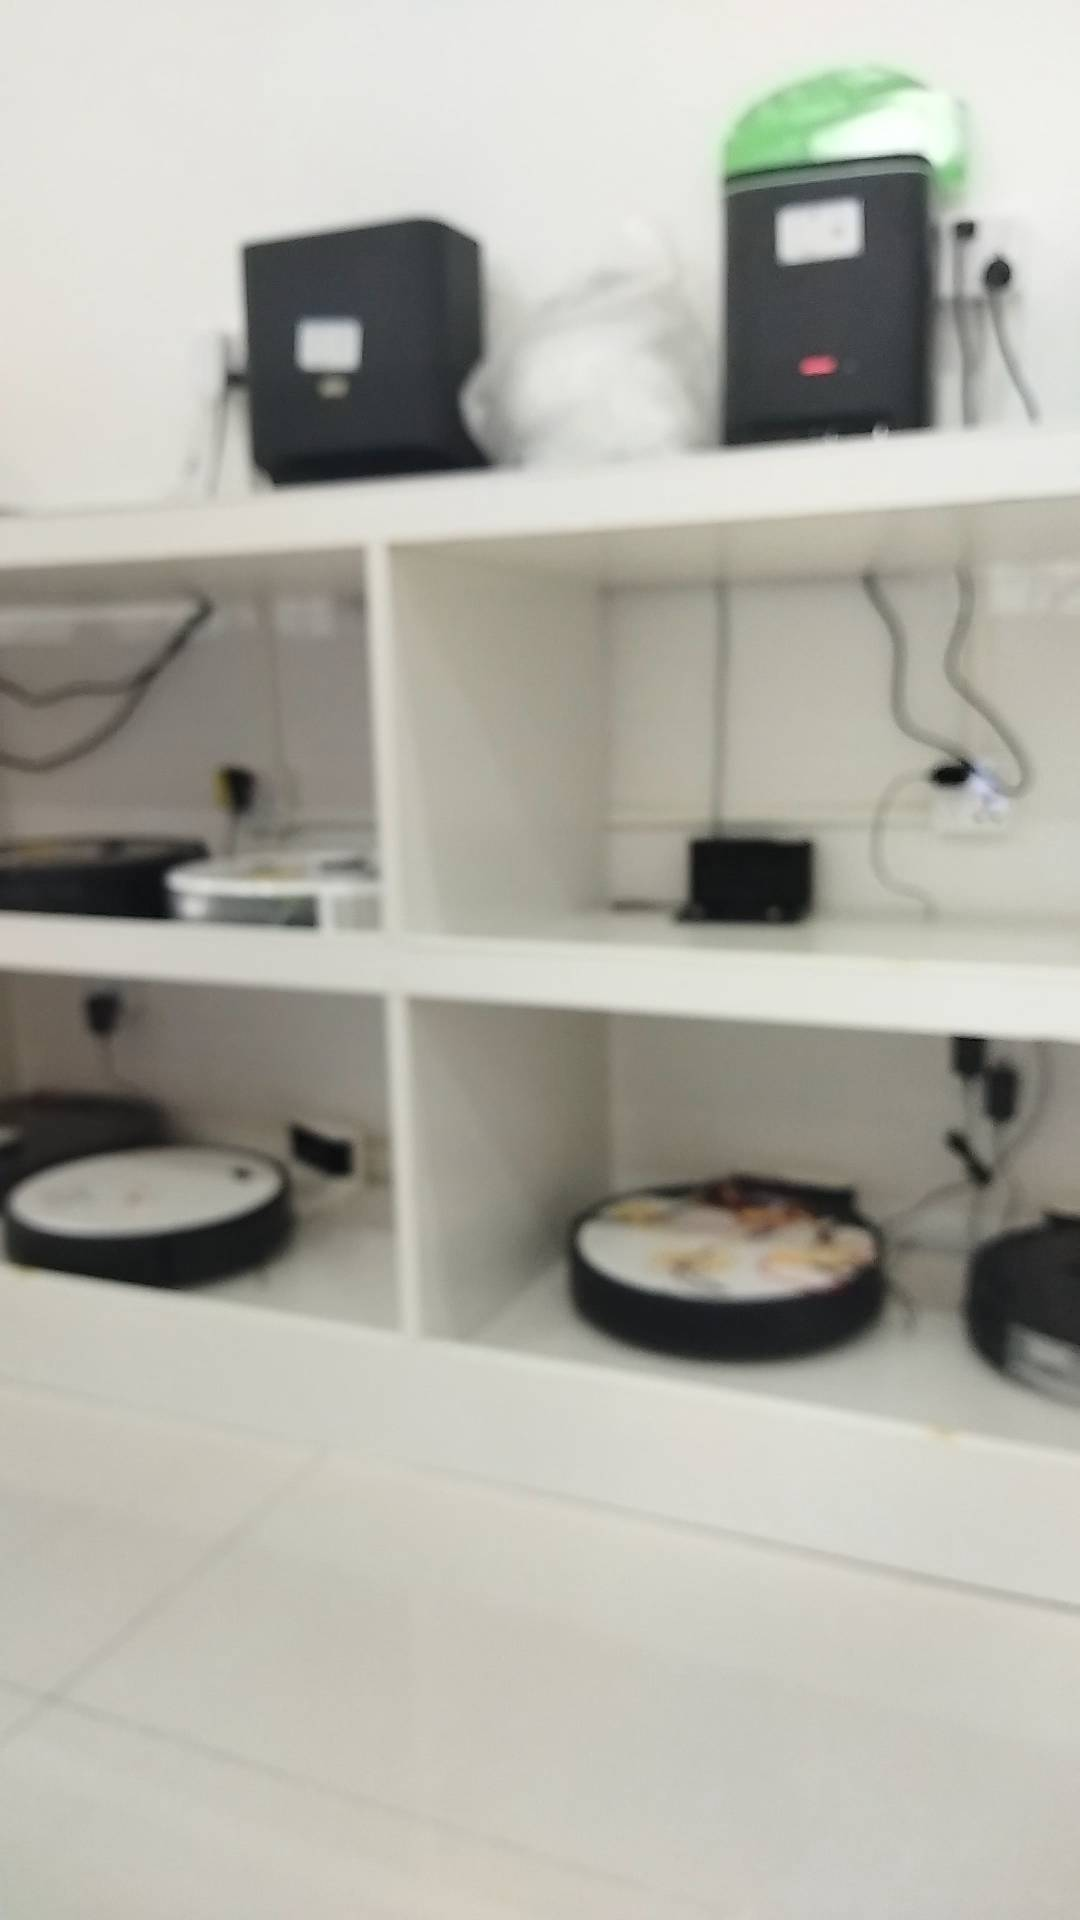dust collecting barrel: (243, 218, 491, 483), (723, 154, 939, 448)
recharge seat: (676, 833, 824, 926), (262, 1116, 365, 1217)
